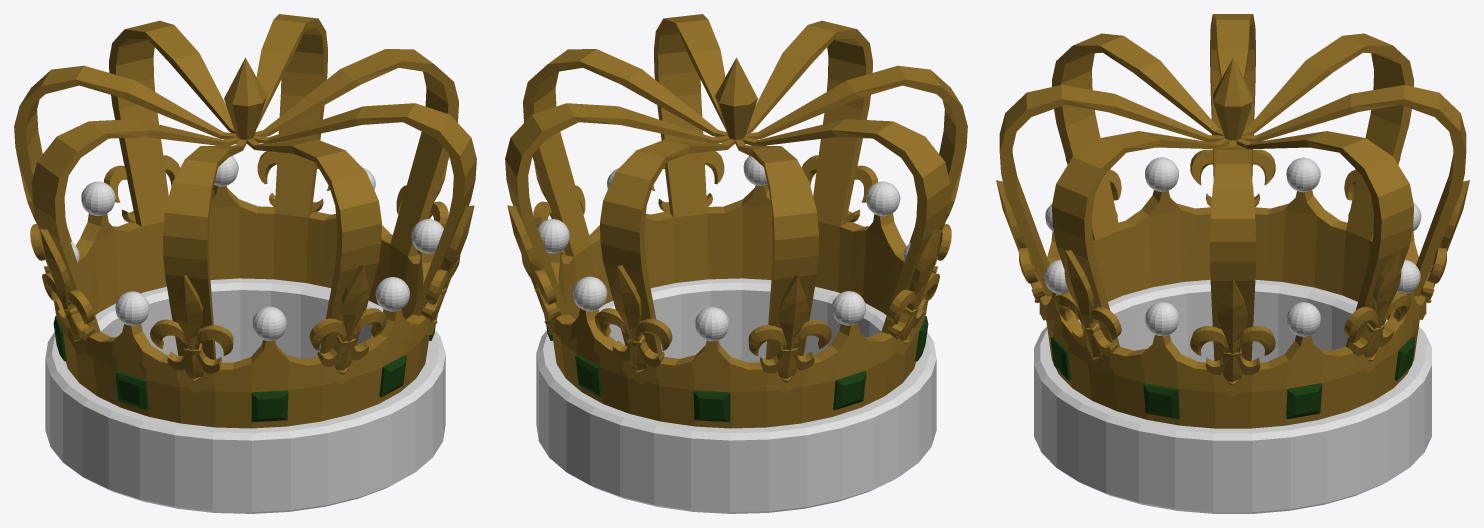
The model's file is Crown.fbx.
3 renders of one model, left to right at view 1: azimuth 30°, elevation 25°; view 2: azimuth 150°, elevation 25°; view 3: azimuth 270°, elevation 25°, orthographic.
Parts seen in each view (by area): view 1: pPipe2; view 2: pPipe2; view 3: pPipe2.
Part boxes in pixels (x1,y1,x2,y2): pPipe2: [14, 14, 476, 513]; pPipe2: [505, 14, 967, 513]; pPipe2: [996, 14, 1469, 513].
Size of the model in its own units: 20.71 by 18.05 by 20.71.
